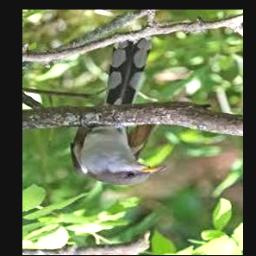Cuckoo: (72, 39, 166, 187)
